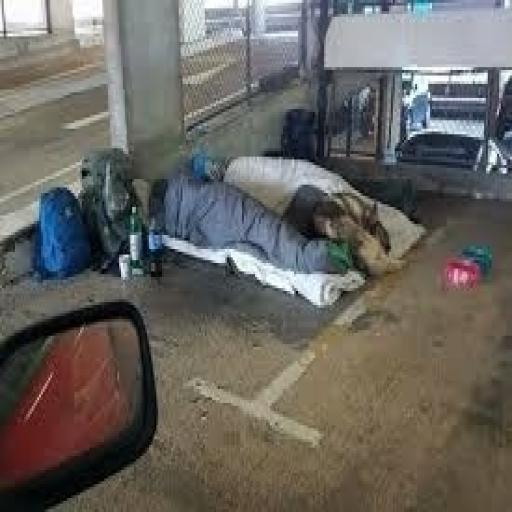sleeping: (145, 170, 404, 280)
